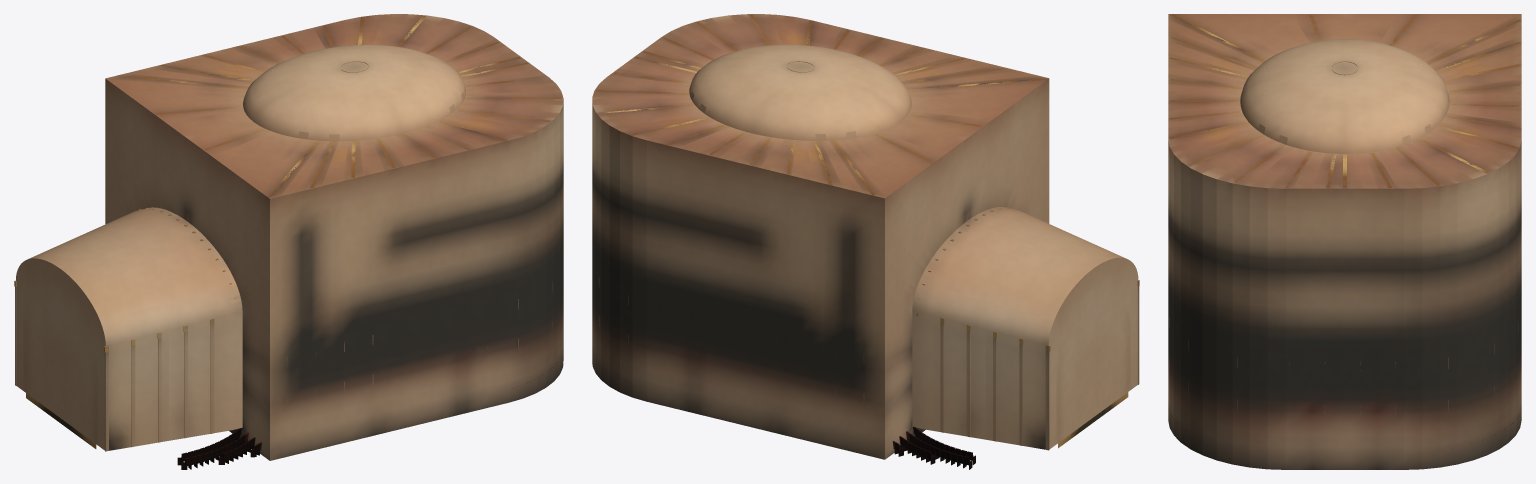
The model's file is carnegie_hall.glb.
The picture shows the model from 3 angles, left to right: view 1: azimuth 30°, elevation 25°; view 2: azimuth 150°, elevation 25°; view 3: azimuth 270°, elevation 25°; orthographic projection. The views are drawn at different scales.
Visible parts, largest first — view 1: Hall_Plaster, Hall_Gold, Hall_Seat_Wood; view 2: Hall_Plaster, Hall_Gold, Hall_Seat_Wood; view 3: Hall_Plaster, Hall_Gold.
Part boxes in pixels (x1,y1,x2,y2): Hall_Plaster: (15,14,563,460); Hall_Gold: (14,16,561,448); Hall_Seat_Wood: (177,428,262,469); Hall_Plaster: (592,14,1139,459); Hall_Gold: (596,14,1139,448); Hall_Seat_Wood: (892,427,975,469); Hall_Plaster: (1168,14,1521,469); Hall_Gold: (1169,14,1521,188).
Bounding box in the file's own units: 43.71 × 26.5 × 27.01.
11 materials, 9 textured.
